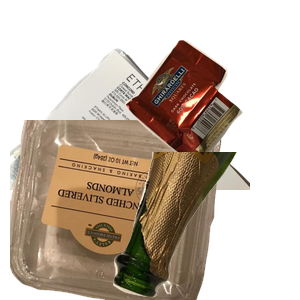glass: (111, 152, 300, 300)
paper: (10, 46, 250, 226)
plastic: (10, 120, 227, 300)
trash: (123, 37, 300, 192)
